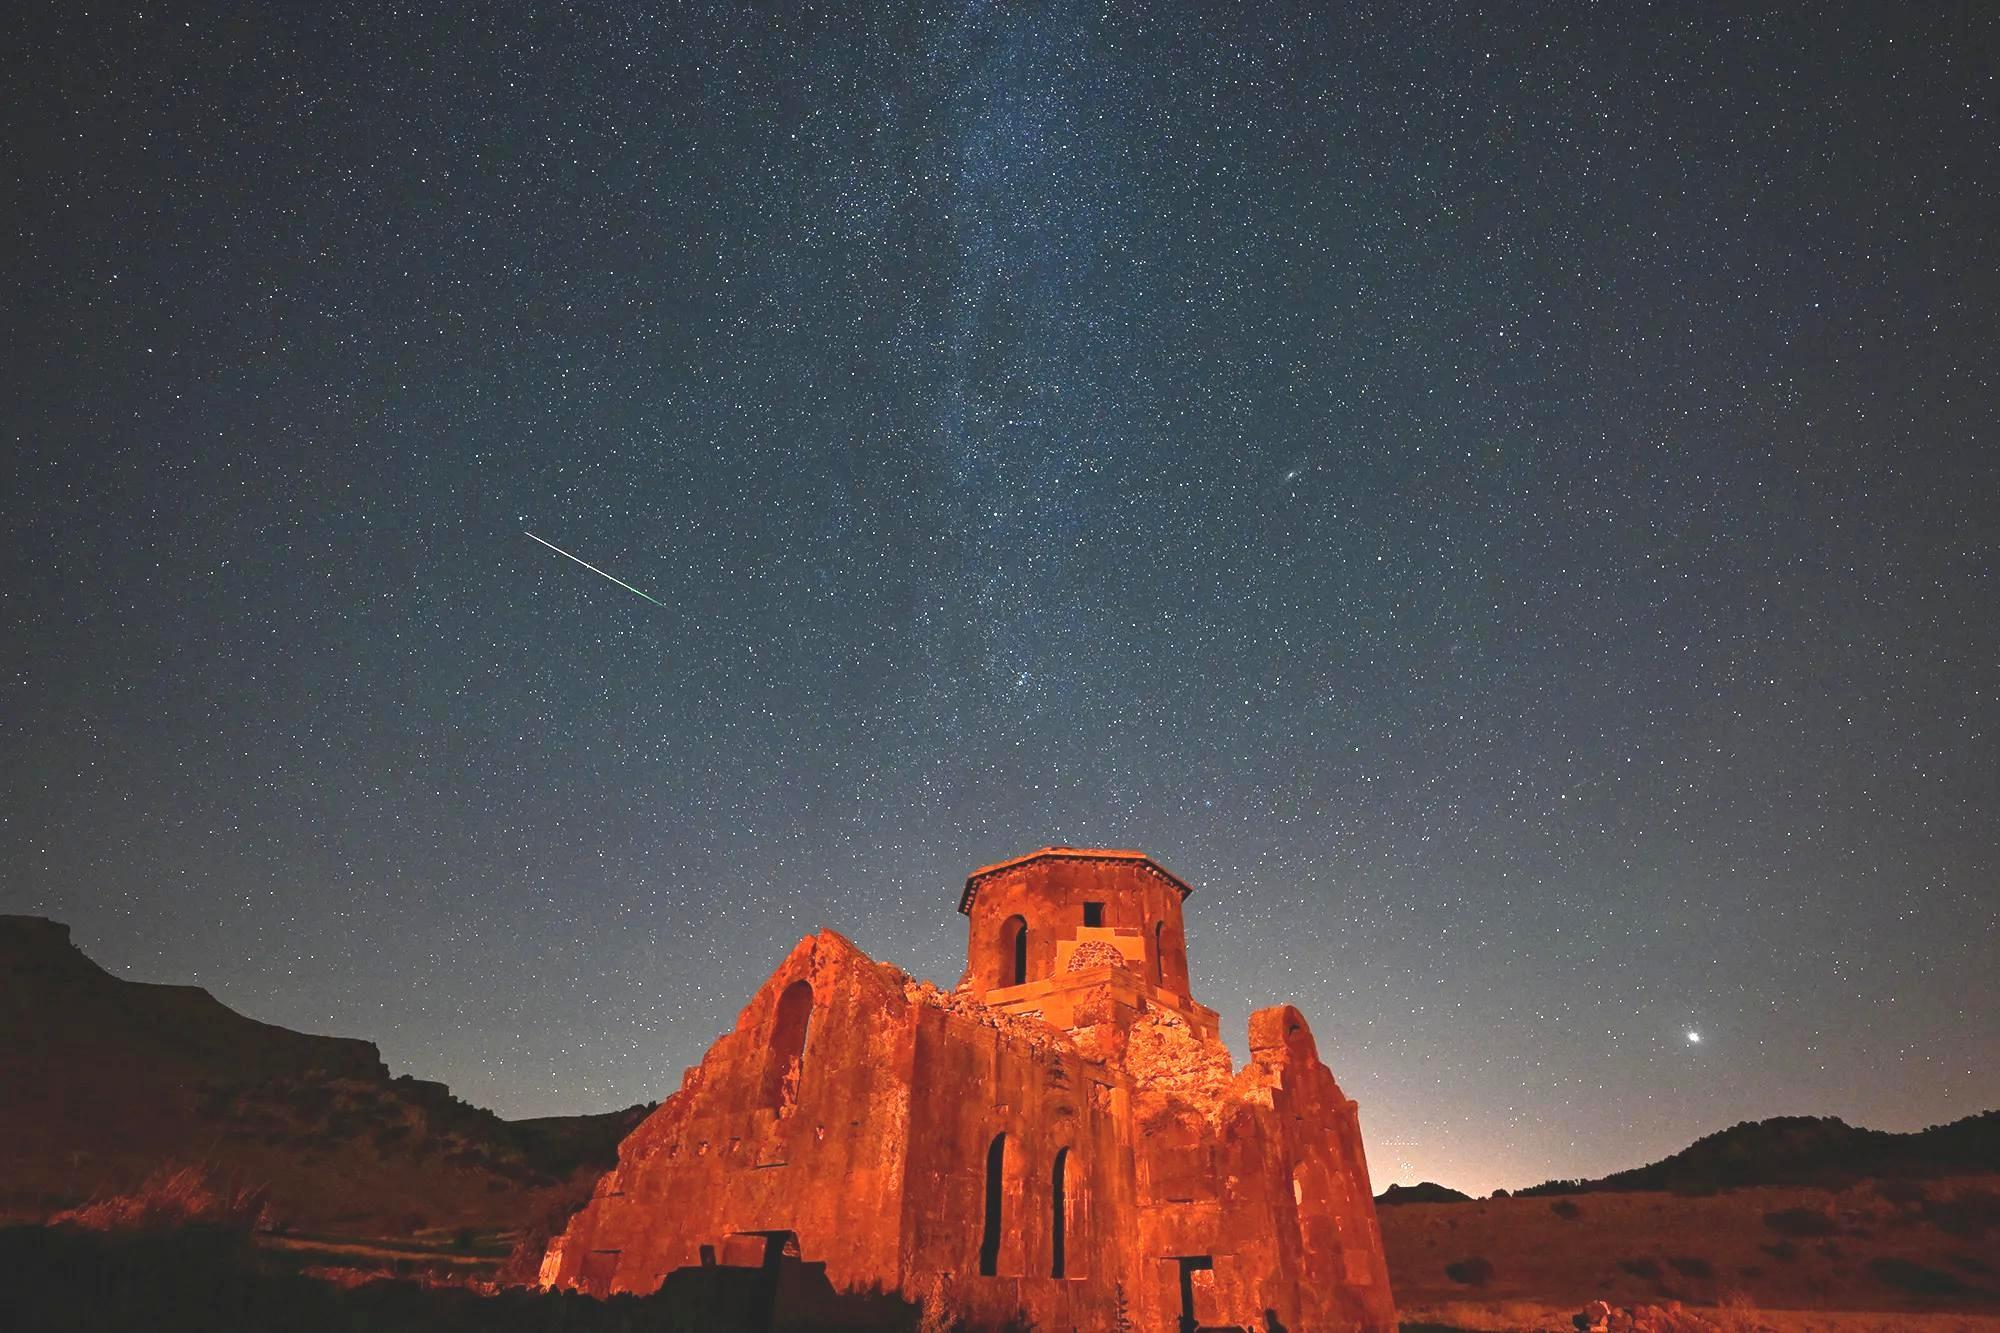meteorite: (504, 516, 702, 625)
